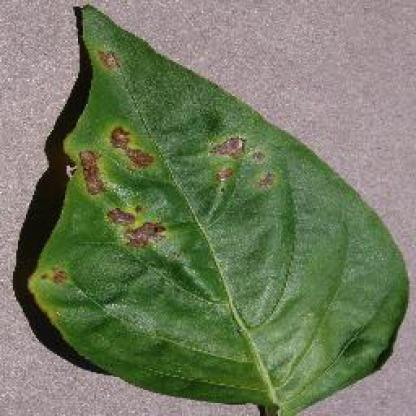bad leaf: (33, 1, 385, 414)
